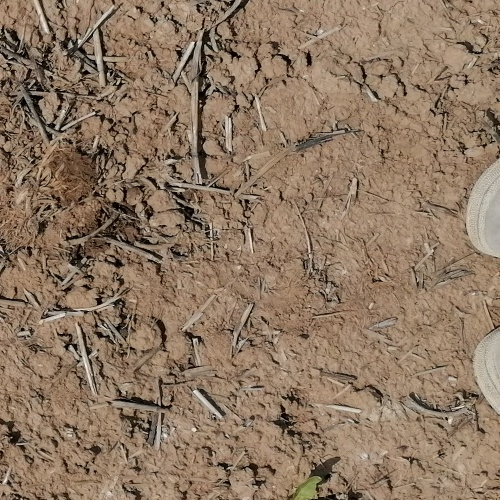beet: (287, 476, 323, 500)
